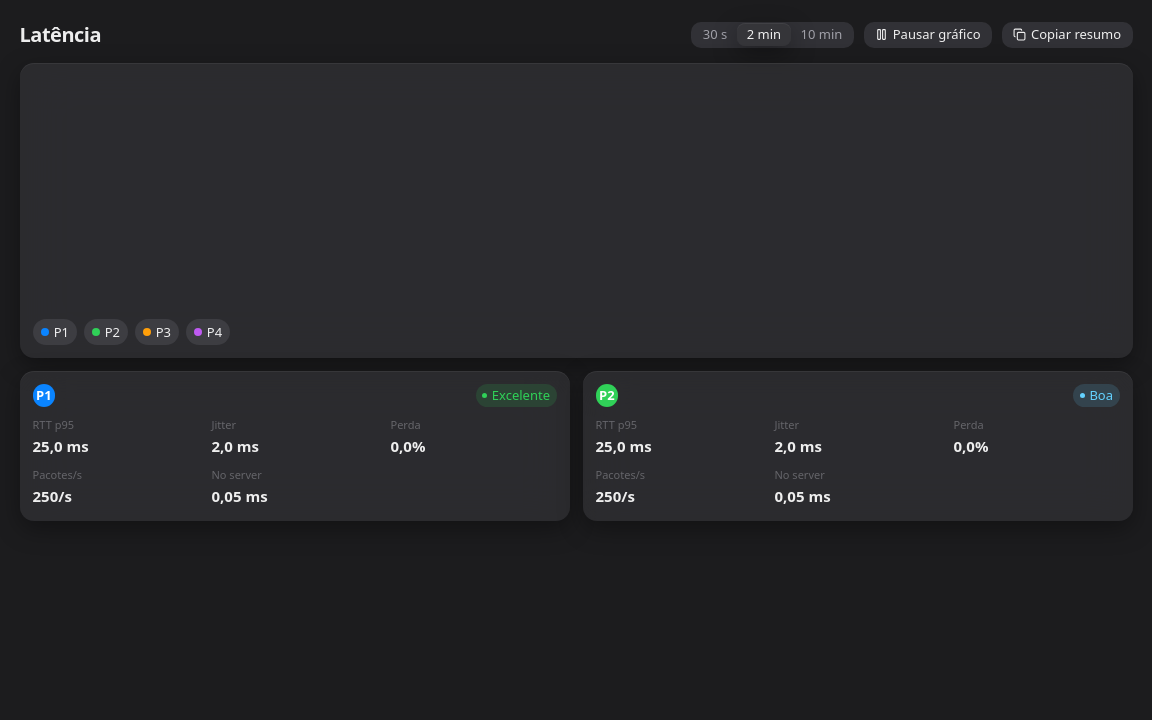
monitor de latência › copia o resumo em texto
Click the button "Copiar resumo".
click(1067, 34)  # box [1002,22,1132,48]
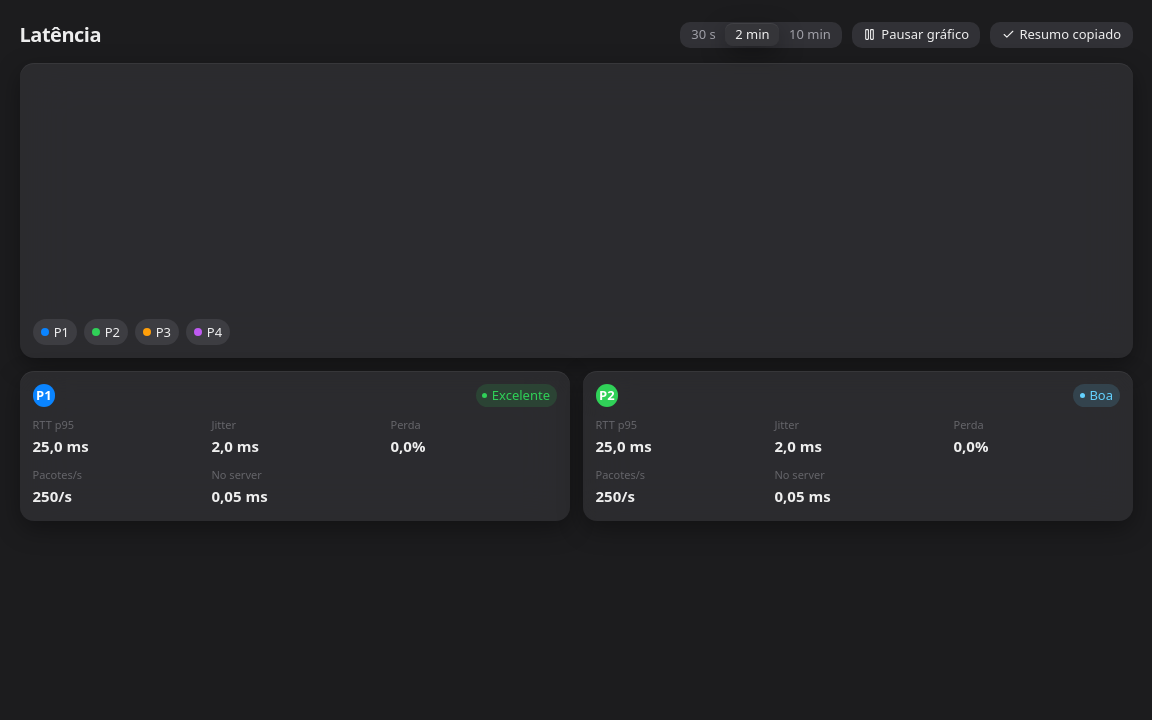
Expected: the button "Resumo copiado" is shown, [990,22,1132,48]
